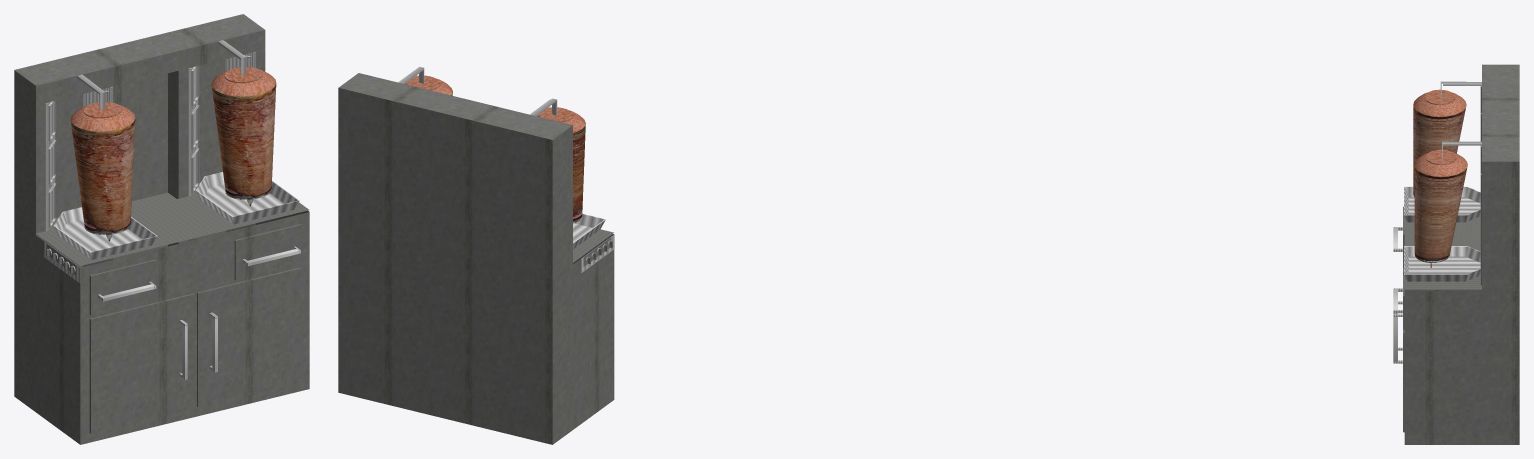
File: TrompoPastor_M.obj
3 renders of one model, left to right at view 1: azimuth 30°, elevation 25°; view 2: azimuth 150°, elevation 25°; view 3: azimuth 270°, elevation 25°, orthographic. The views are drawn at different scales.
Visible parts, largest first — view 1: Mesh32, Mesh07, Mesh01, Object006, Object004, Object007, Componen06, Componen08, Object, Object002, Componente, Componen01 (+6 smaller); view 2: Mesh32, Mesh01, Object004; view 3: Mesh32, Mesh07, Object007, Mesh01, Object006, Object, Object002, Object004.
Boxes of the visible parts, bbox=[...] form: Mesh32: bbox=[14, 14, 309, 444]; Mesh07: bbox=[211, 83, 276, 206]; Mesh01: bbox=[70, 119, 135, 241]; Object006: bbox=[36, 183, 309, 265]; Object004: bbox=[54, 207, 157, 259]; Object007: bbox=[195, 172, 299, 224]; Componen06: bbox=[45, 100, 56, 231]; Componen08: bbox=[188, 66, 199, 196]; Object: bbox=[70, 102, 135, 131]; Object002: bbox=[211, 67, 276, 96]; Componente: bbox=[242, 246, 300, 266]; Componen01: bbox=[97, 281, 156, 301]; Mesh32: bbox=[338, 73, 614, 444]; Mesh01: bbox=[573, 123, 585, 223]; Object004: bbox=[573, 213, 605, 248]; Mesh32: bbox=[1403, 64, 1519, 444]; Mesh07: bbox=[1414, 166, 1467, 267]; Object007: bbox=[1404, 246, 1480, 281]; Mesh01: bbox=[1413, 105, 1466, 196]; Object006: bbox=[1404, 216, 1481, 289]; Object: bbox=[1413, 89, 1466, 116]; Object002: bbox=[1414, 149, 1467, 176]; Object004: bbox=[1404, 186, 1480, 222].
Size of what is drawn, in the model's own units: 86.22 by 65.35 by 104.
